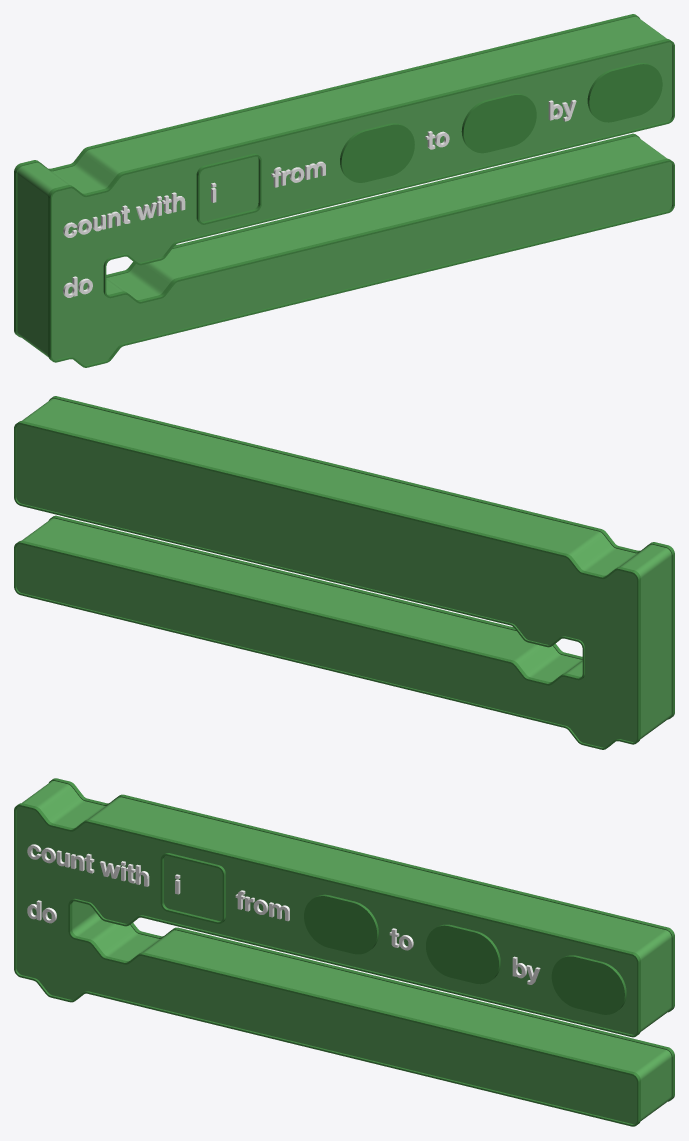
File: controls_for.gltf
The picture shows the model from 3 angles, top to bottom: view 1: azimuth 30°, elevation 25°; view 2: azimuth 150°, elevation 25°; view 3: azimuth 330°, elevation 25°; orthographic projection.
Visible parts, largest first — view 1: Extrude.26, Extrude.25, Extrude.27, Extrude.2, Extrude.1, Extrude, Extrude.14; view 2: Extrude.26, Extrude.27, Extrude.25; view 3: Extrude.26, Extrude.25, Extrude.27, Extrude, Extrude.2, Extrude.1, Extrude.14.
Boxes of the visible parts, x1,y1,x2,y2 form: Extrude.26: (17,16,672,365); Extrude.25: (48,39,674,367); Extrude.27: (14,14,640,337); Extrude.2: (340,123,414,182); Extrude.1: (461,93,536,153); Extrude: (587,63,662,122); Extrude.14: (196,153,261,224); Extrude.26: (16,398,671,747); Extrude.27: (14,421,640,749); Extrude.25: (48,396,674,719); Extrude.26: (16,781,671,1124); Extrude.25: (14,803,640,1126); Extrude.27: (49,778,674,1101); Extrude: (551,955,626,1014); Extrude.2: (304,894,378,954); Extrude.1: (426,924,500,984); Extrude.14: (160,853,225,923).
Bounding box in the file's own units: 0.7334 × 0.2077 × 0.0755.
